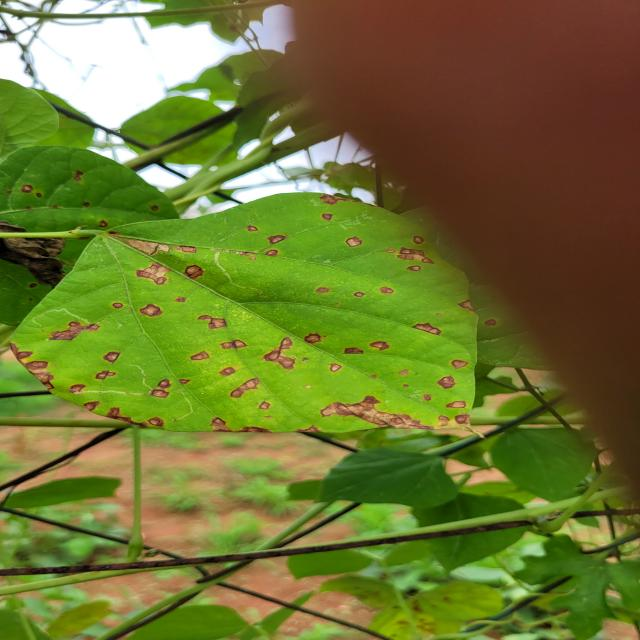Dolicos bean_cercospora leaf spot: (9, 188, 506, 446), (0, 135, 205, 313)
